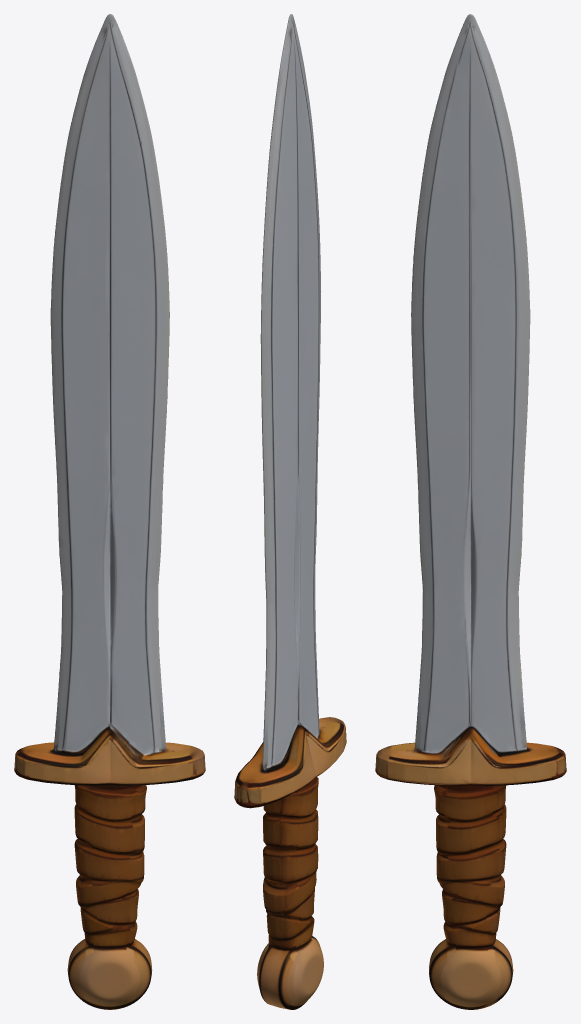
The model's file is prop_sword.glb.
3 views of the same model, side by side, from view 1: azimuth 90°, elevation 25°; view 2: azimuth 150°, elevation 25°; view 3: azimuth 270°, elevation 25° (orthographic).
Visible parts, largest first — view 1: material; view 2: material; view 3: material.
Boxes of the visible parts, left/top/right/bottom form: material: left=14, top=14, right=205, bottom=1009; material: left=234, top=14, right=346, bottom=1009; material: left=375, top=14, right=566, bottom=1009.
Size of the model in its own units: 0.0661 by 1.2 by 0.2097.
1 material, 1 textured.
